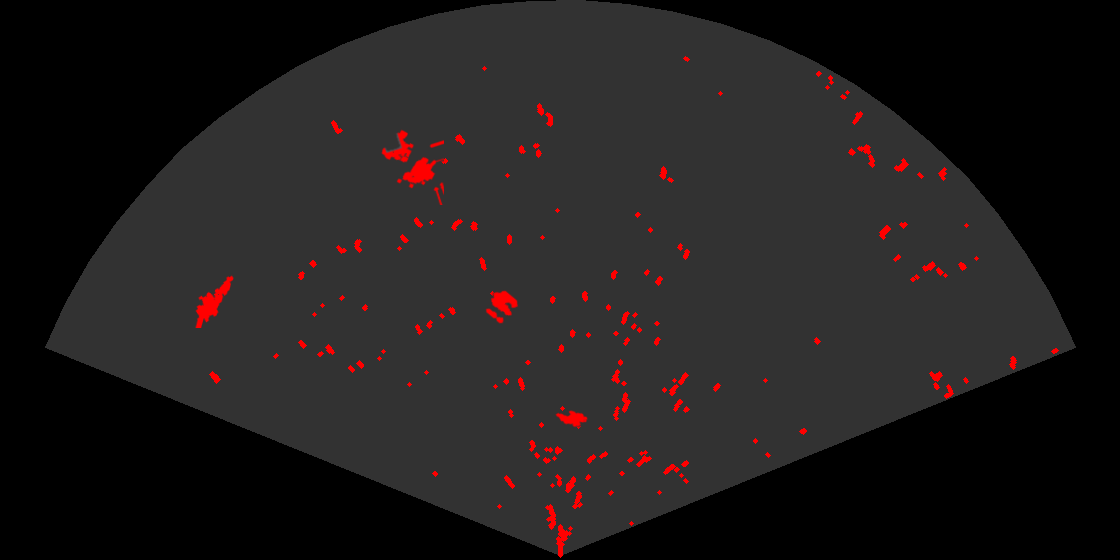AUV: (554, 409, 589, 429)
ball: (484, 289, 520, 325)
cage: (380, 128, 444, 205)
frogman: (194, 273, 235, 328)
